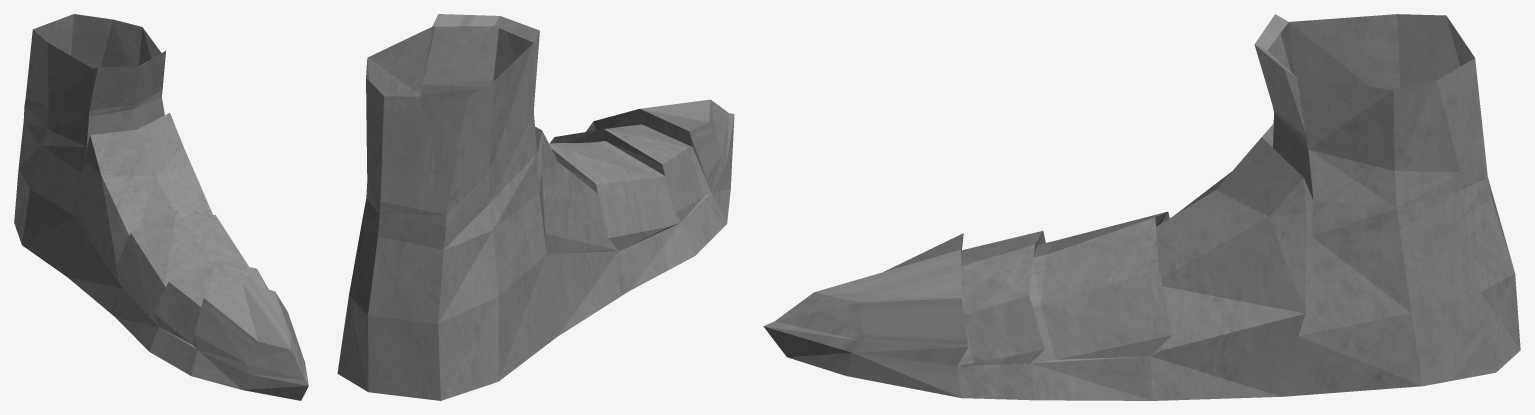
File: knightShoe_L.fbx
3 views of the same model, side by side, from view 1: azimuth 30°, elevation 25°; view 2: azimuth 150°, elevation 25°; view 3: azimuth 270°, elevation 25° (orthographic). The views are drawn at different scales.
Parts seen in each view (by area): view 1: polySurface17; view 2: polySurface17; view 3: polySurface17.
Part boxes in pixels (box(x1,y1,x2,y2)): polySurface17: box(14, 14, 308, 400); polySurface17: box(337, 14, 734, 400); polySurface17: box(763, 14, 1520, 400).
Size of the model in its own units: 11.17 by 17.17 by 36.91.
Materials: 1 (1 with a texture image).
